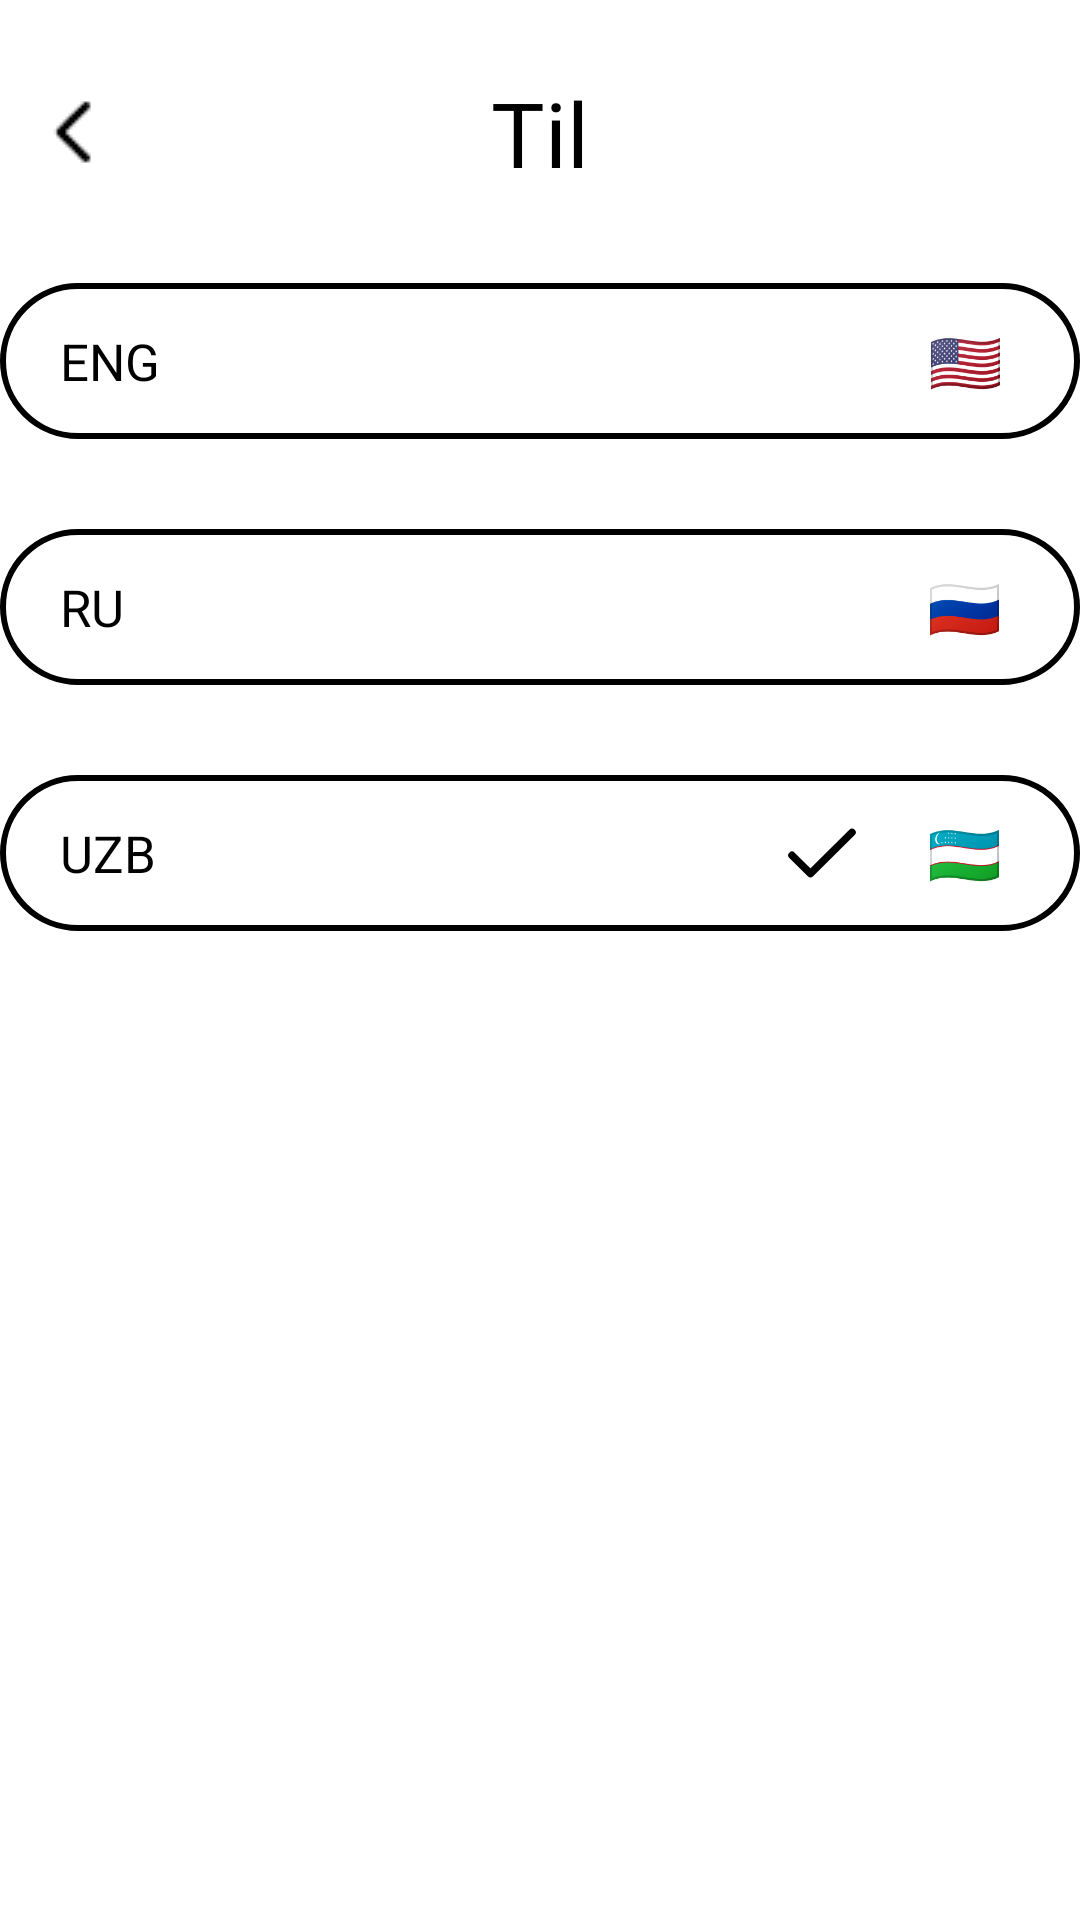

Locate icon controls on the screen. Image size 1080×1920, boxes as BBox(x1, y1, x2, y2).
check: BBox(777, 775, 867, 931)
